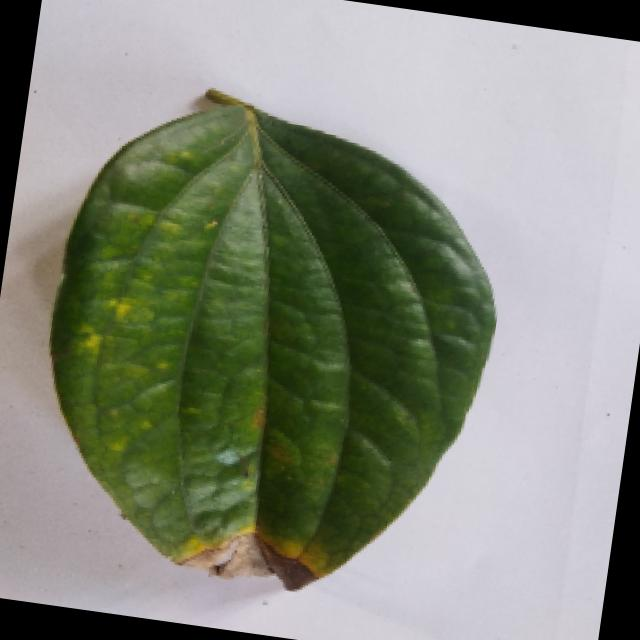footrot: (18, 72, 520, 614)
